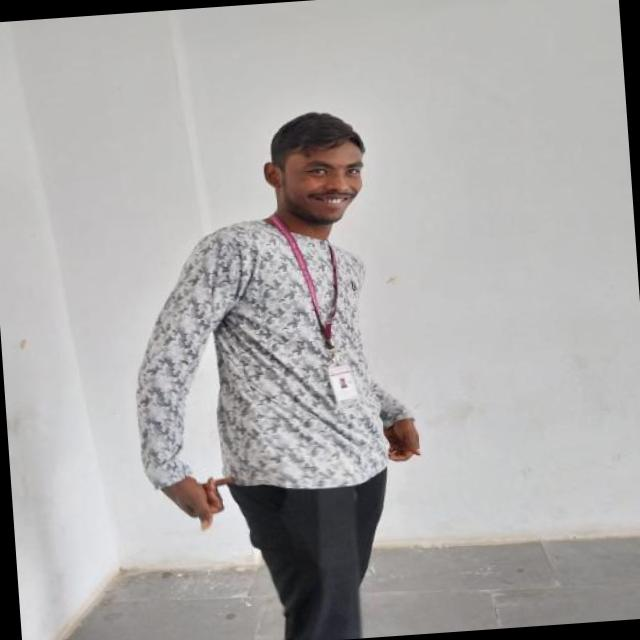id_card: (274, 203, 362, 410)
